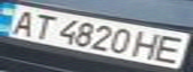0: (112, 25, 136, 56)
2: (90, 23, 115, 53)
4: (51, 17, 81, 46)
8: (72, 19, 96, 49)
A: (3, 7, 42, 36)
E: (151, 33, 193, 64)
H: (130, 29, 166, 61)
T: (24, 11, 60, 40)
